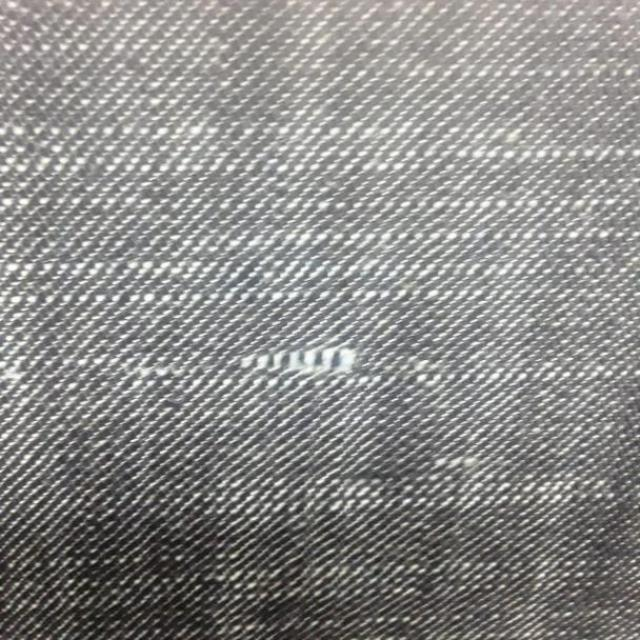Knot: (241, 348, 357, 372)
